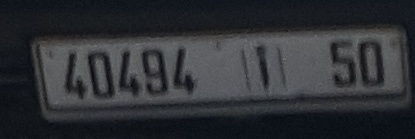0: (358, 37, 390, 90), (88, 48, 115, 103)
4: (170, 42, 203, 100), (56, 47, 88, 103), (116, 45, 143, 104)
5: (323, 36, 358, 93)
9: (141, 45, 173, 102)
a: (250, 38, 274, 96)
